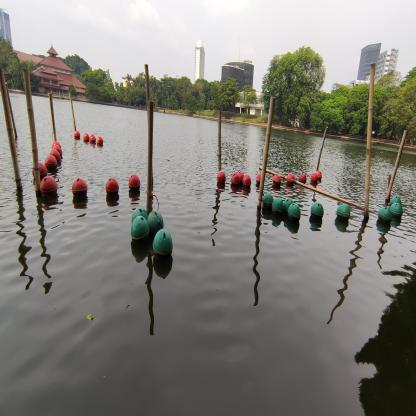green_buoy: (152, 228, 174, 263), (130, 215, 150, 245), (147, 209, 164, 234), (131, 207, 148, 226), (336, 202, 351, 223), (310, 201, 324, 221), (288, 203, 301, 224), (271, 197, 284, 217), (378, 206, 392, 224), (390, 202, 403, 219), (262, 192, 274, 209), (283, 197, 293, 215), (390, 196, 402, 209)
red_buoy: (40, 175, 58, 197), (72, 176, 88, 198), (105, 176, 119, 197), (32, 162, 48, 180), (128, 174, 141, 192), (45, 155, 58, 169), (242, 174, 252, 189), (49, 150, 61, 162), (217, 170, 226, 185), (231, 172, 240, 187), (272, 173, 282, 186), (52, 145, 62, 156), (298, 172, 306, 185), (51, 141, 62, 150), (238, 171, 245, 185), (286, 173, 294, 185), (310, 172, 318, 183), (73, 130, 81, 140), (96, 136, 104, 146), (83, 132, 90, 143), (316, 169, 322, 181), (256, 172, 261, 185), (90, 134, 96, 144)
